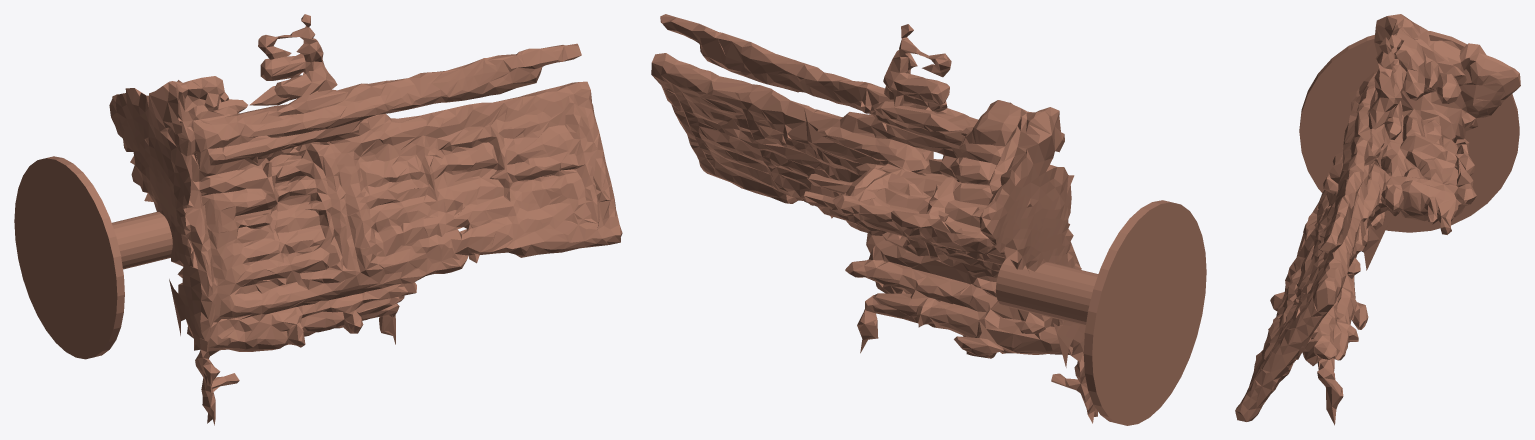
File: improved.glb
3 views of the same model, side by side, from view 1: azimuth 30°, elevation 25°; view 2: azimuth 150°, elevation 25°; view 3: azimuth 270°, elevation 25° (orthographic). The views are drawn at different scales.
Parts seen in each view (by area): view 1: world; view 2: world; view 3: world.
Part boxes in pixels (x1=…): world: x1=14, y1=14, x2=622, y2=425; world: x1=651, y1=14, x2=1206, y2=425; world: x1=1235, y1=14, x2=1520, y2=425.
Size of the model in its own units: 0.74 by 0.5144 by 0.353.
